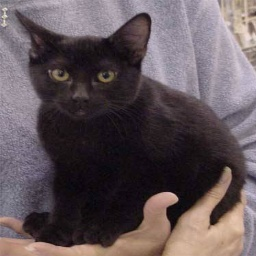cat: (15, 9, 256, 249)
